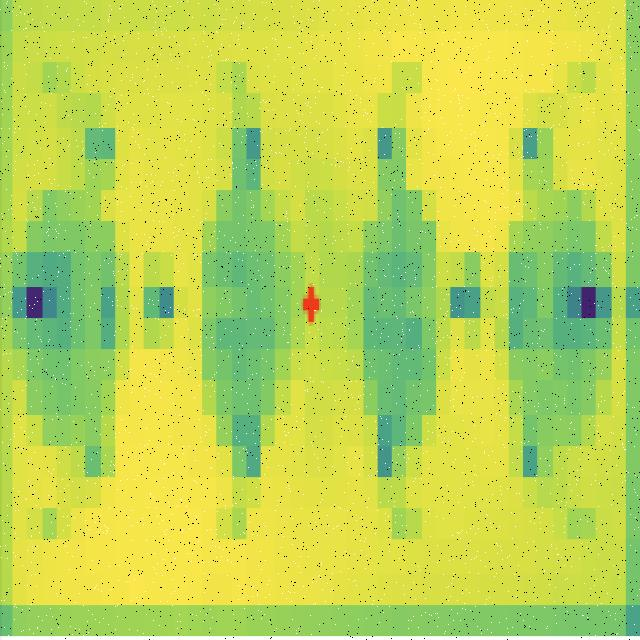Concrete: (196, 182, 305, 478)
Glass: (26, 168, 132, 496)
Metal: (343, 184, 447, 492)
Wood: (489, 143, 609, 477)
